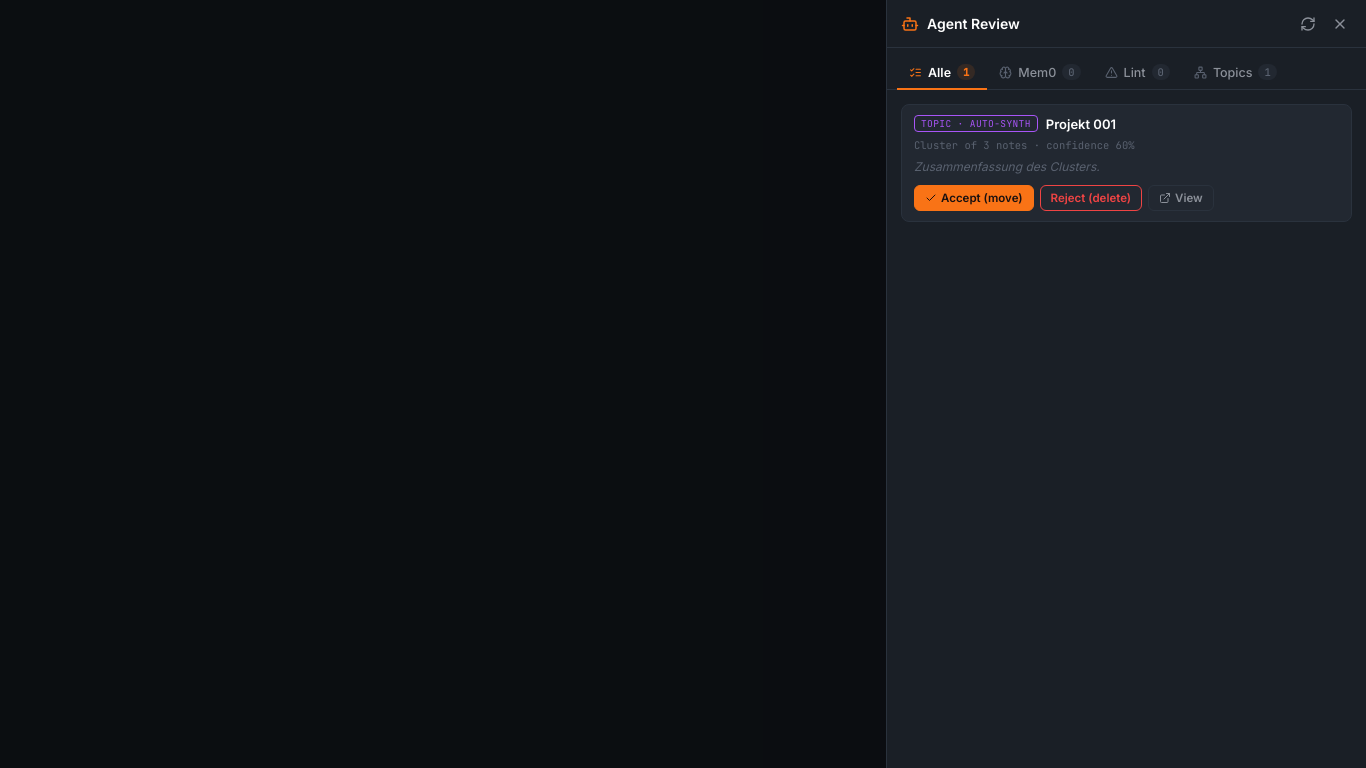
Test: AgentReviewPanel — fehlgeschlagene Aktion › lädt die Queue neu und zeigt trotzdem den Fehler
Check: the text "Projekt 001" is shown, box [1046,116,1116,132]
Click the button "Accept (move)".
click(974, 198)  # box [914,185,1034,211]
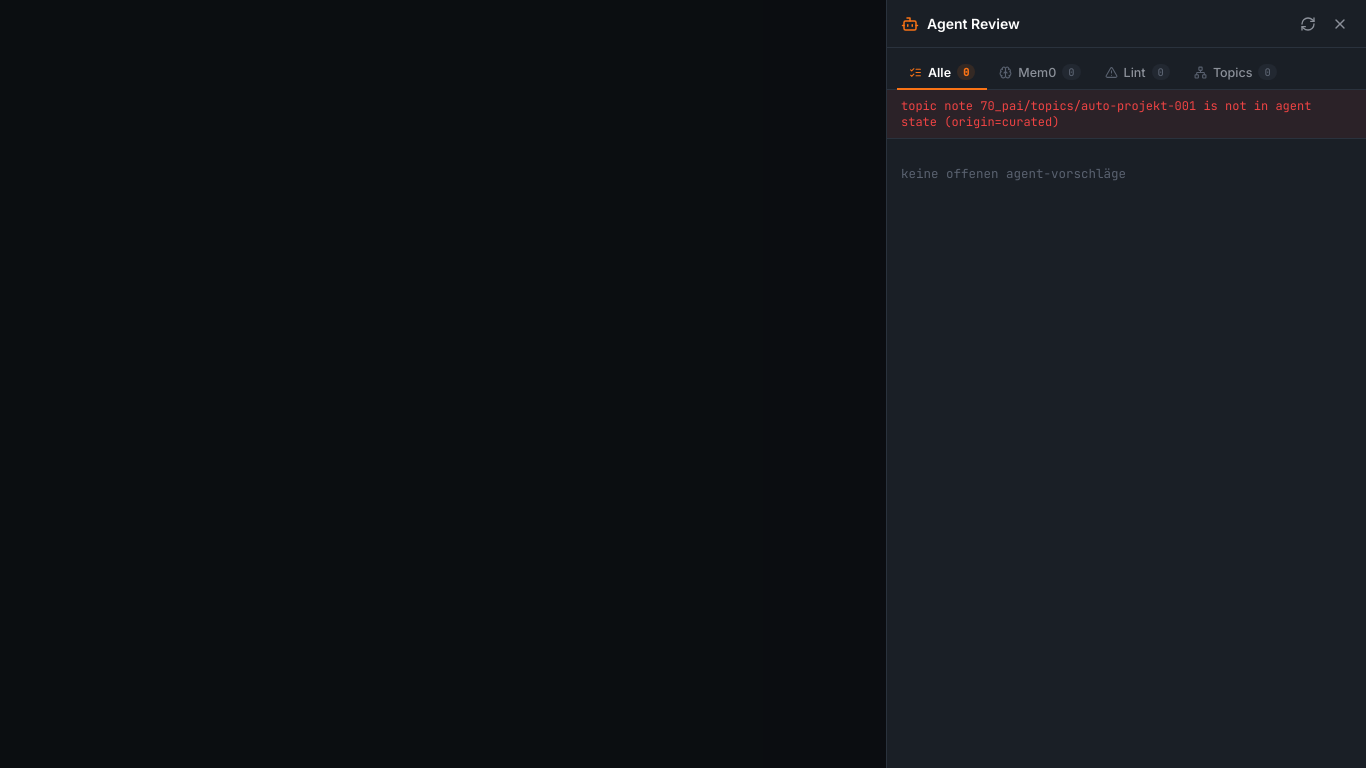
Check: the text "Projekt 001" is gone
Check: the text "is not in agent state" is shown, box [901,98,1311,130]
